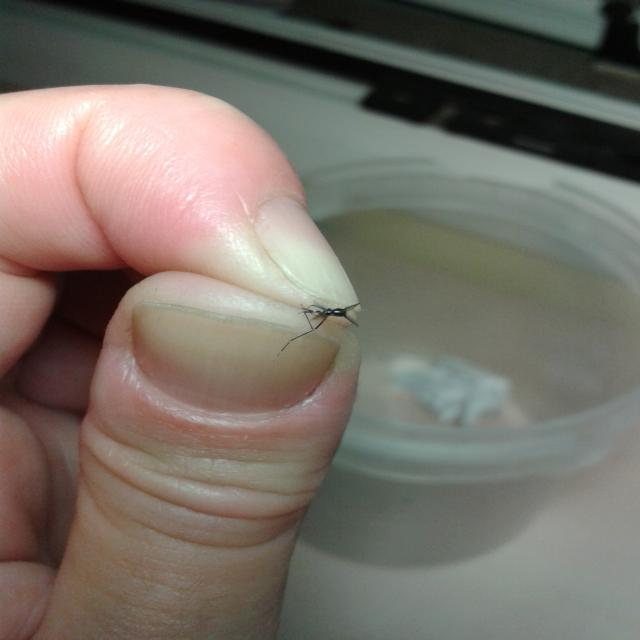albopictus: (270, 278, 364, 353)
